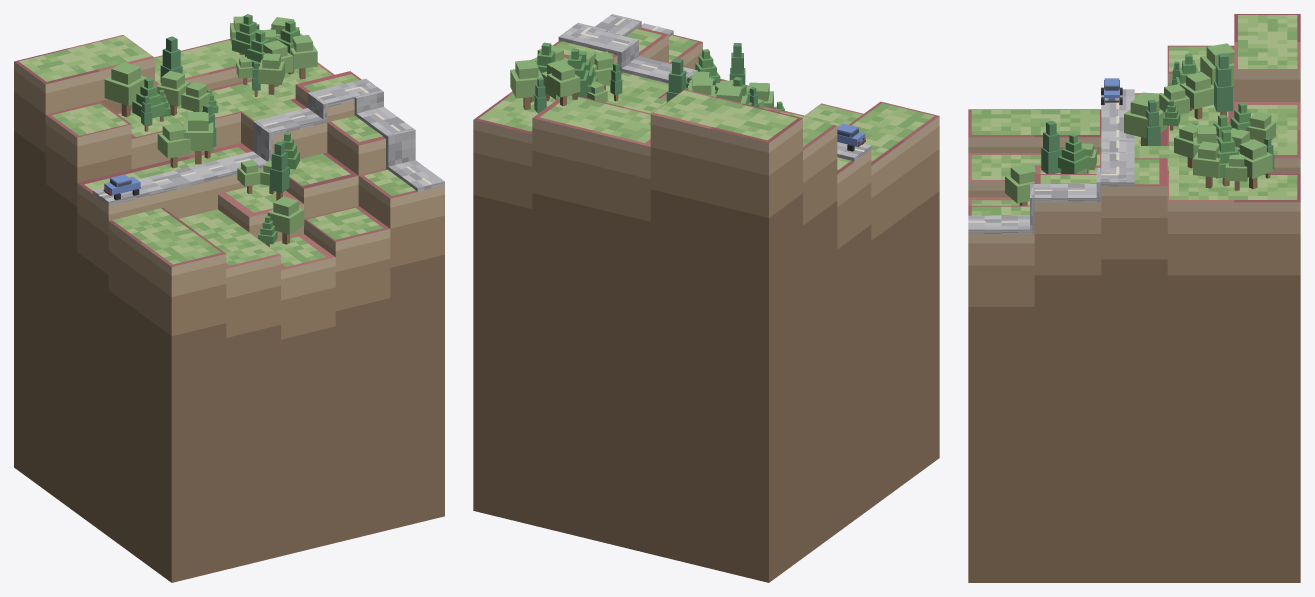
The model's file is block_21_permeable_15.glb.
The picture shows the model from 3 angles, left to right: view 1: azimuth 30°, elevation 25°; view 2: azimuth 150°, elevation 25°; view 3: azimuth 270°, elevation 25°; orthographic projection. The views are drawn at different scales.
Visible parts, largest first — view 1: Patch_UpperRight_b22_PP, Green_UpperRight_b21_PP, Roads_UpperRight_b22_PP, URTree_21_6_PP, URTree_21_13_PP, URTree_21_3_PP, URTree_21_8_PP, URTree_21_11_PP, URTree_21_23_PP, URTree_21_26_PP, URTree_21_10_PP, URTree_21_2_PP (+5 smaller); view 2: Patch_UpperRight_b22_PP, Green_UpperRight_b21_PP, Roads_UpperRight_b22_PP, URTree_21_25_PP, URTree_21_17_PP, URTree_21_7_PP; view 3: Patch_UpperRight_b22_PP, Green_UpperRight_b21_PP, Roads_UpperRight_b22_PP, URTree_21_3_PP, URTree_21_25_PP, URTree_21_7_PP, URTree_21_10_PP, URTree_21_13_PP, URTree_21_23_PP, URTree_21_11_PP, URTree_21_15_PP, URTree_21_6_PP (+8 smaller).
Part boxes in pixels (x1,y1,x2,y2): Patch_UpperRight_b22_PP: (14, 35, 444, 582); Green_UpperRight_b21_PP: (19, 35, 415, 266); Roads_UpperRight_b22_PP: (93, 78, 444, 205); URTree_21_6_PP: (104, 62, 147, 117); URTree_21_13_PP: (267, 196, 304, 244); URTree_21_3_PP: (183, 112, 213, 164); URTree_21_8_PP: (157, 122, 190, 168); URTree_21_11_PP: (270, 141, 289, 200); URTree_21_23_PP: (290, 35, 317, 79); URTree_21_26_PP: (258, 53, 284, 94); URTree_21_10_PP: (156, 71, 190, 115); URTree_21_2_PP: (132, 77, 165, 125); Patch_UpperRight_b22_PP: (473, 27, 939, 582); Green_UpperRight_b21_PP: (478, 29, 934, 169); Roads_UpperRight_b22_PP: (558, 14, 871, 161); URTree_21_25_PP: (510, 59, 543, 109); URTree_21_17_PP: (547, 63, 580, 106); URTree_21_7_PP: (666, 58, 688, 102); Patch_UpperRight_b22_PP: (968, 14, 1300, 582); Green_UpperRight_b21_PP: (971, 15, 1297, 215); Roads_UpperRight_b22_PP: (968, 89, 1134, 233); URTree_21_3_PP: (1124, 94, 1167, 145); URTree_21_25_PP: (1239, 139, 1272, 189); URTree_21_7_PP: (1214, 53, 1232, 115); URTree_21_10_PP: (1180, 71, 1213, 119); URTree_21_13_PP: (1005, 164, 1036, 205); URTree_21_23_PP: (1193, 141, 1220, 188); URTree_21_11_PP: (1041, 120, 1061, 173); URTree_21_15_PP: (1058, 133, 1089, 173); URTree_21_6_PP: (1200, 43, 1235, 85).
Bounding box in the file's own units: 9.55 × 14.16 × 9.5.
